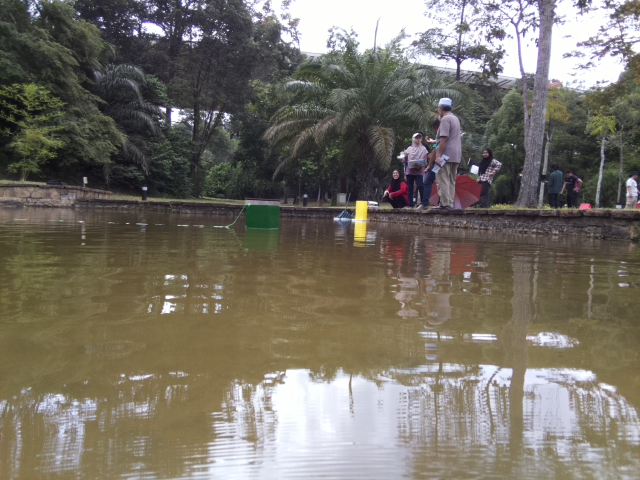obstacle: (243, 204, 282, 230)
